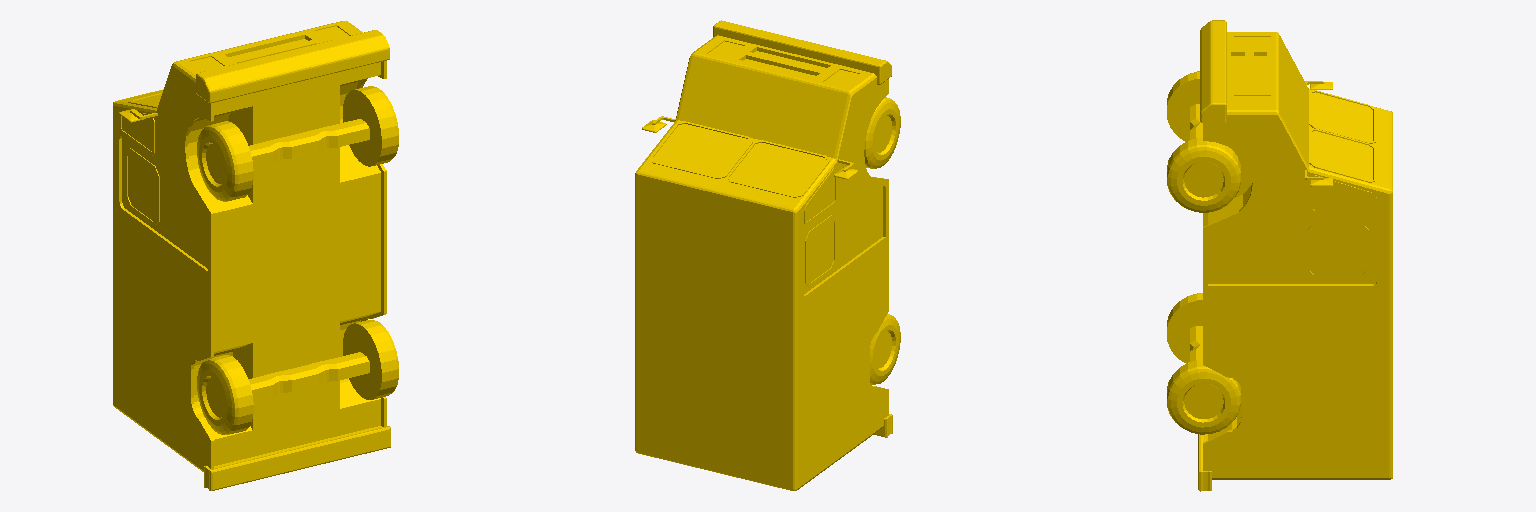
The robot description file, URDF, robot "neutral_target":
<?xml version="1.0"?>
<!--
  neutral_target.urdf — PyBullet URDF for neutral / civilian targets.

  Mesh source: CesiumGS CesiumMilkTruck.glb converted to OBJ (Apache 2.0)
  https://github.com/CesiumGS/cesium

  The Cesium Milk Truck is a ground-vehicle silhouette appropriate for
  neutral / civilian entities in the ISR simulation.

  Raw mesh extent ≈ 2.8 × 2.6 × 4.9 m.  Scaled to ≈ 3.9 m length.
-->
<robot name="neutral_target">

  <link name="base_link">

    <inertial>
      <mass value="0.0"/>
      <origin xyz="0 0 0" rpy="0 0 0"/>
      <inertia ixx="0" ixy="0" ixz="0" iyy="0" iyz="0" izz="0"/>
    </inertial>

    <visual>
      <origin xyz="0 0 0" rpy="0 0 0"/>
      <geometry>
        <!-- Scale raw ~4.9 m length to ~3.9 m (factor 0.8) -->
        <mesh filename="../meshes/cesium_milk_truck.obj" scale="0.8 0.8 0.8"/>
      </geometry>
      <material name="neutral_yellow">
        <color rgba="1.0 0.85 0.0 0.85"/>
      </material>
    </visual>

    <collision>
      <origin xyz="0 0 0" rpy="0 0 0"/>
      <geometry>
        <box size="2.5 2.0 4.0"/>
      </geometry>
    </collision>

  </link>

</robot>

--- Render facts (derived) ---
The picture shows the robot from 3 angles, left to right: view 1: azimuth 30°, elevation 25°; view 2: azimuth 150°, elevation 25°; view 3: azimuth 270°, elevation 25°; orthographic projection.
Model neutral_target with 1 links and 0 joints (none), rooted at base_link, posed all joints at 0.
Links seen in each view (by area): view 1: base_link; view 2: base_link; view 3: base_link.
Boxes of the visible links, left/top/right/bottom form: base_link: left=113, top=21, right=398, bottom=490; base_link: left=635, top=20, right=900, bottom=490; base_link: left=1167, top=20, right=1392, bottom=491.
Bounding box of the posed robot: 2.23 × 2.07 × 3.9 m (x, y, z).
Meshes: 1 distinct files referenced, 1 mesh visuals loaded (1 OBJ).
